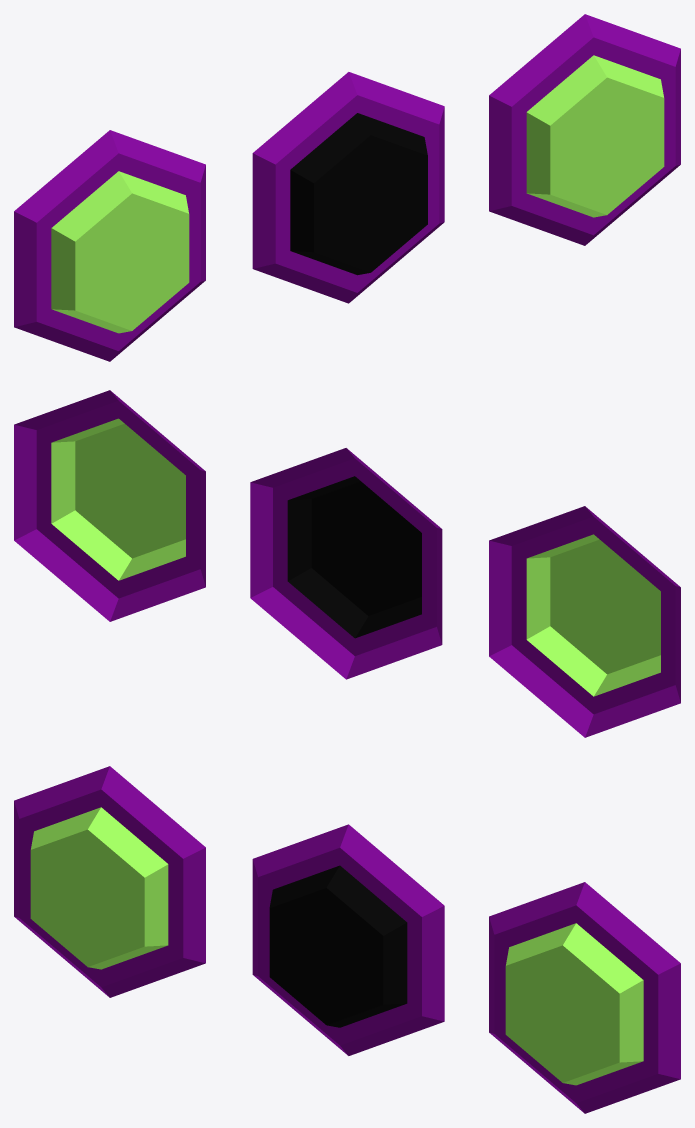
Rendered from candleButtons.glb.
3 views of the same model, one above another, from view 1: azimuth 30°, elevation 25°; view 2: azimuth 150°, elevation 25°; view 3: azimuth 330°, elevation 25° (orthographic).
Parts seen in each view (by area): view 1: SM_Prop_Buttons_05; view 2: SM_Prop_Buttons_05; view 3: SM_Prop_Buttons_05.
Boxes of the visible parts, box(x1,y1,x2,y2) form: SM_Prop_Buttons_05: box(14, 14, 680, 361); SM_Prop_Buttons_05: box(14, 390, 680, 737); SM_Prop_Buttons_05: box(14, 766, 680, 1113).
Bounding box in the file's own units: 0.1503 × 0.05 × 0.00868.
1 material, 1 textured.
